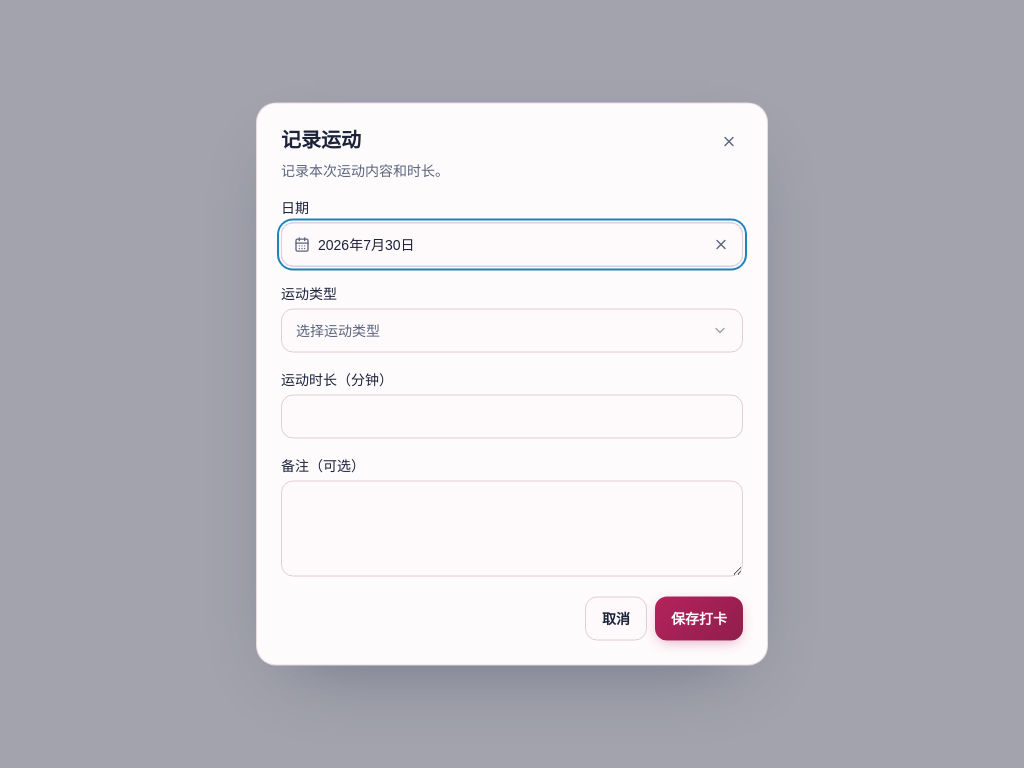
Test: CheckinDialog › keeps the dialog open and exposes submit errors
Click the dropdown labelled "运动类型" at (338, 330), box 281,308 -> 743,352
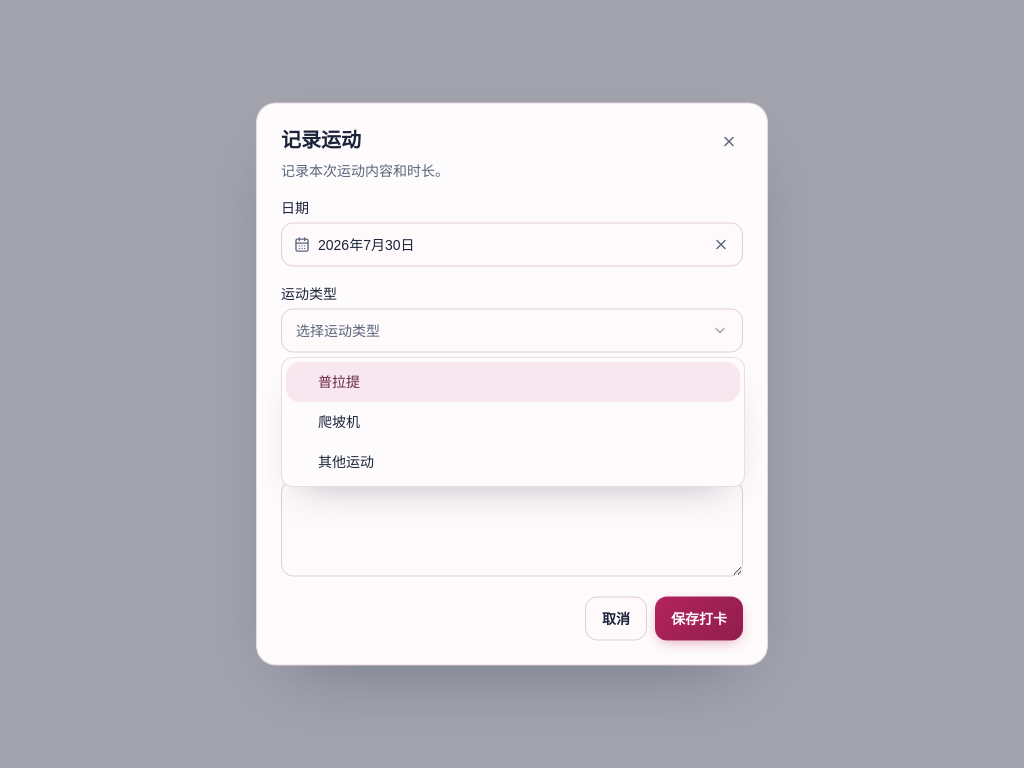
Press Arrowdown Enter
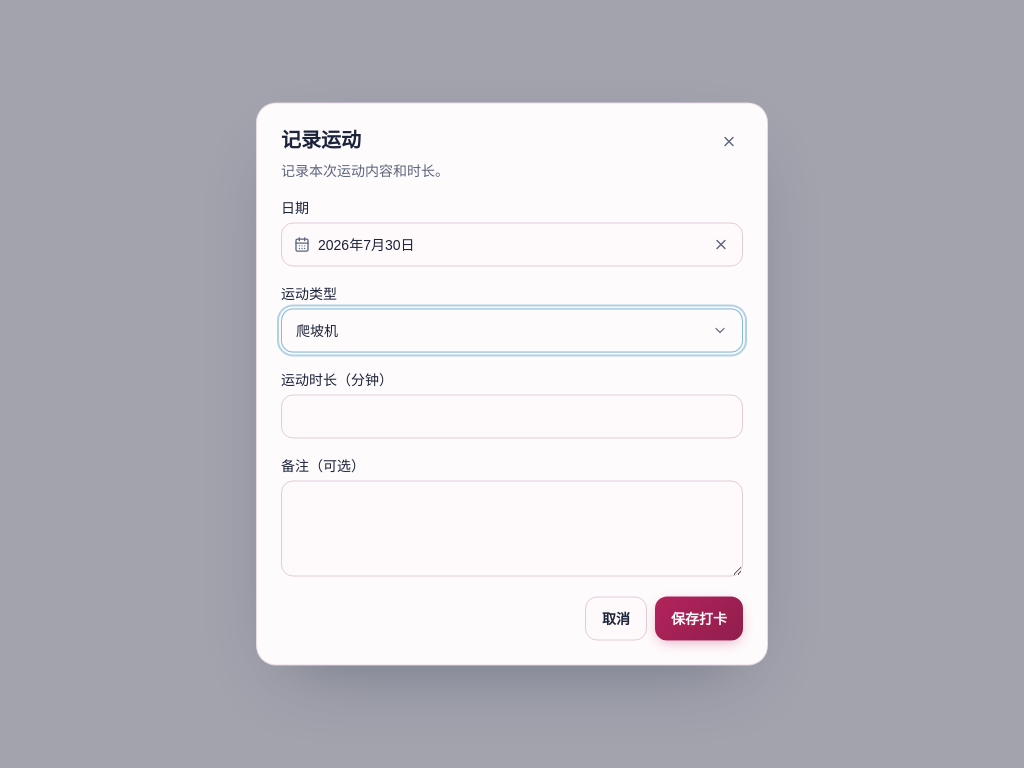
Type "30" into the number field labelled "运动时长（分钟）" at (512, 416), box 281,394 -> 743,438
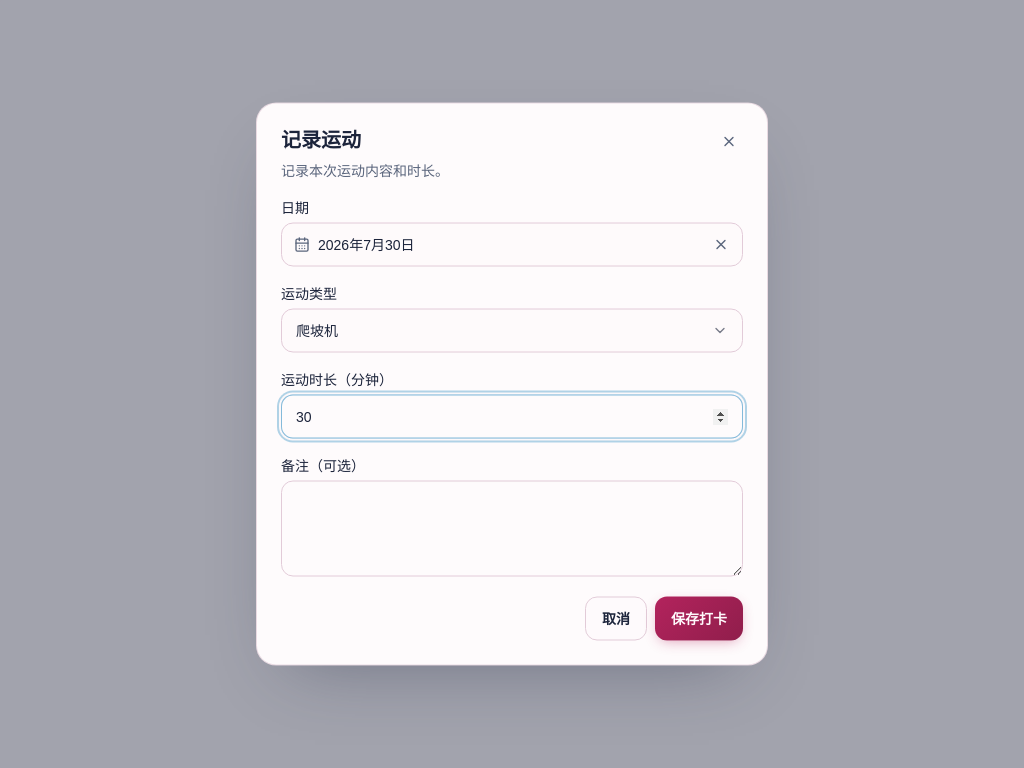
Click the button "保存打卡" at (699, 618), box 655,596 -> 743,640
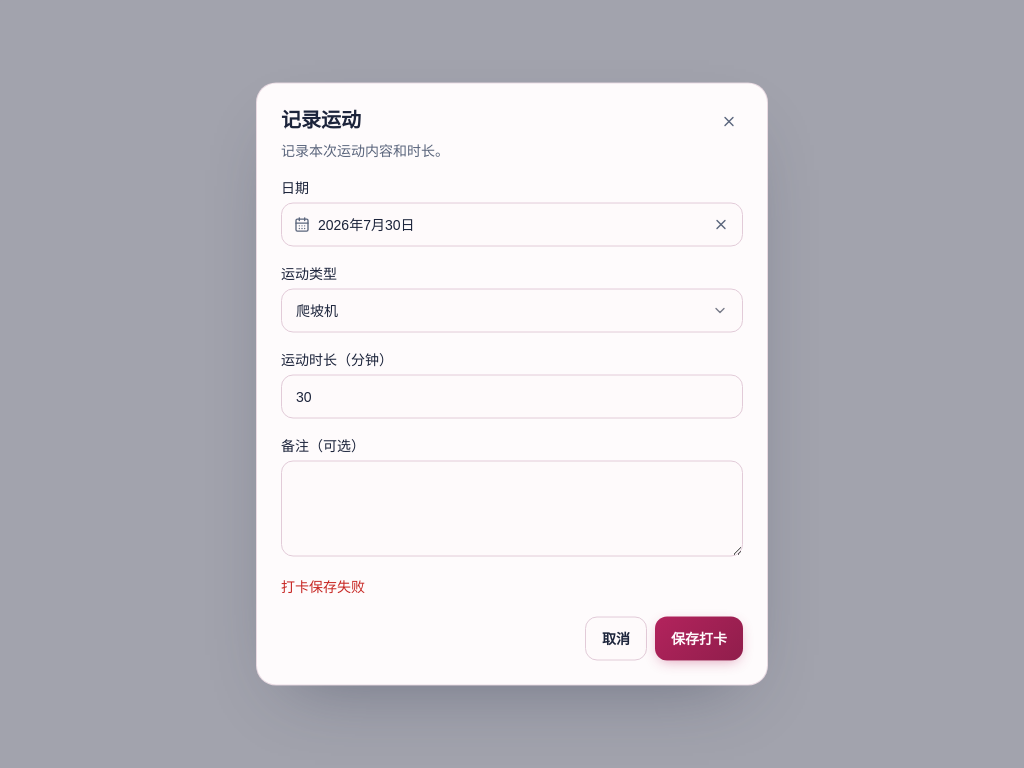
Expected: the dialog "记录运动" is shown, 256,82 -> 768,686
Now the message reads "打卡保存失败", box 281,578 -> 365,594
